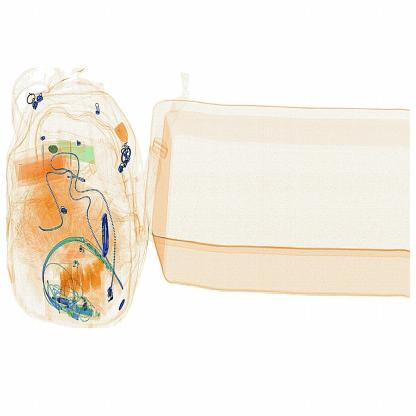knife: (91, 206, 118, 268)
